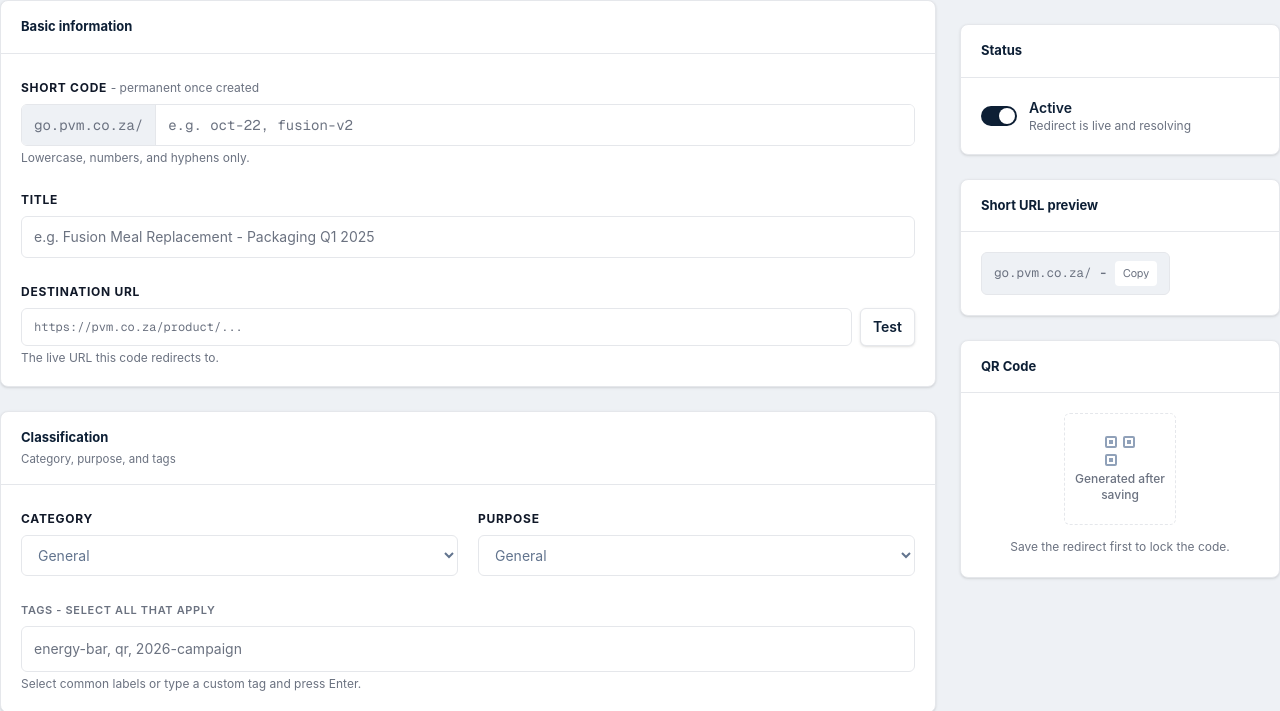
Test: RedirectForm › lets users add and remove tags before submit
This screenshot has width=1280, height=711.
Type "Retail activation" into the field labelled "Tags - select all that apply".
click(468, 649); type("Retail activation")  # box top-left (30, 635), bottom-right (906, 663)
Then press Enter
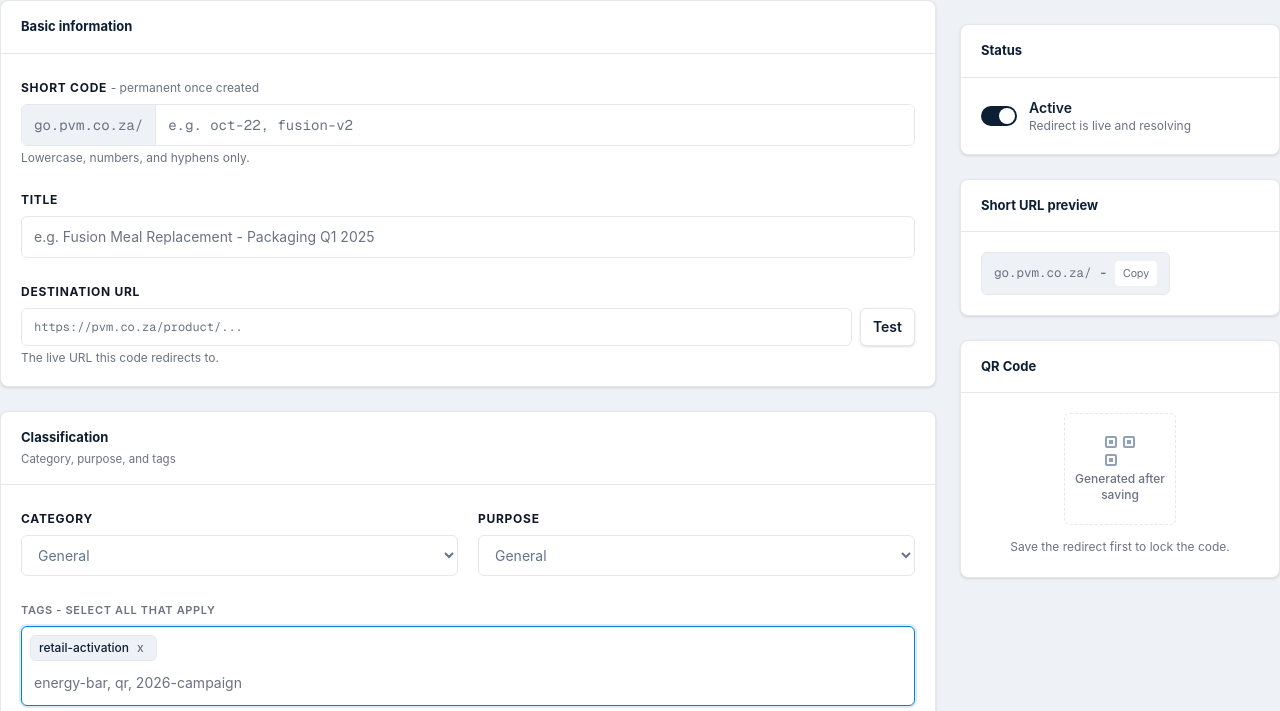
Result: the text "retail-activation" is shown at top-left (39, 640), bottom-right (129, 656)
Click the button named "Remove retail-activation".
click(140, 648)  # box top-left (133, 640), bottom-right (148, 656)
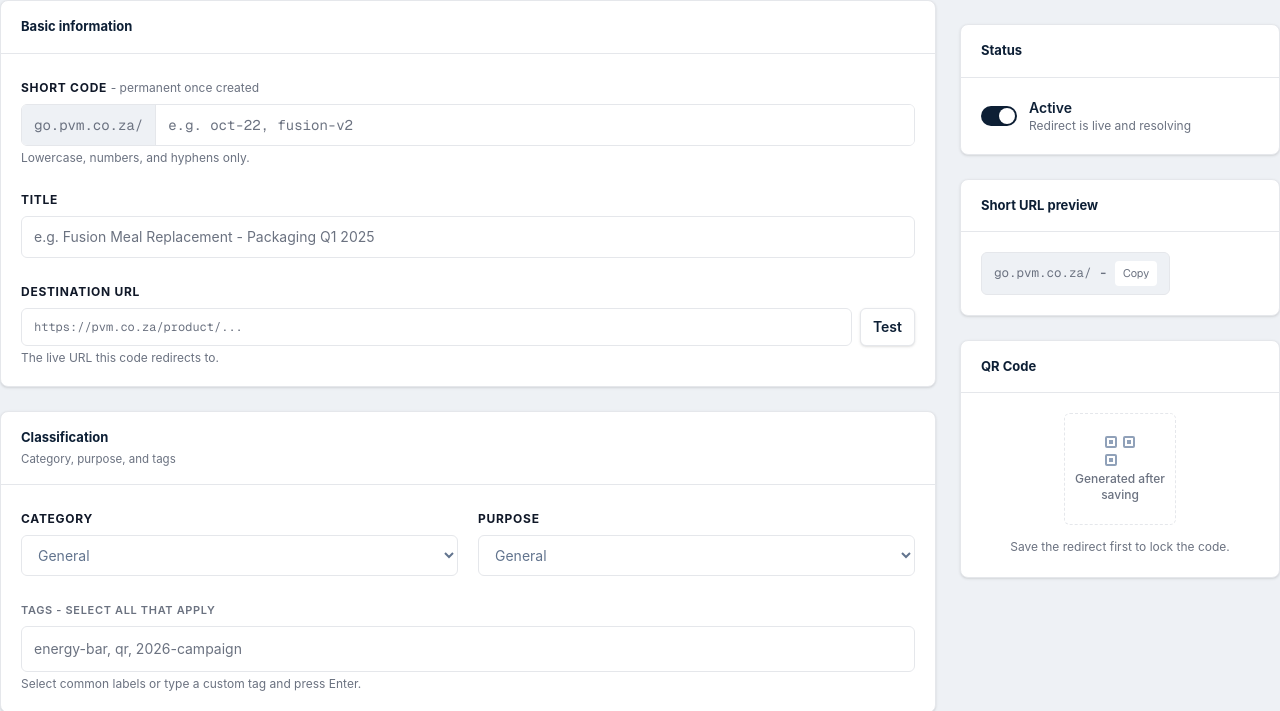
Expected: the element named "tags" is empty, top-left (21, 596), bottom-right (915, 692)
Result: the text "retail-activation" is gone
